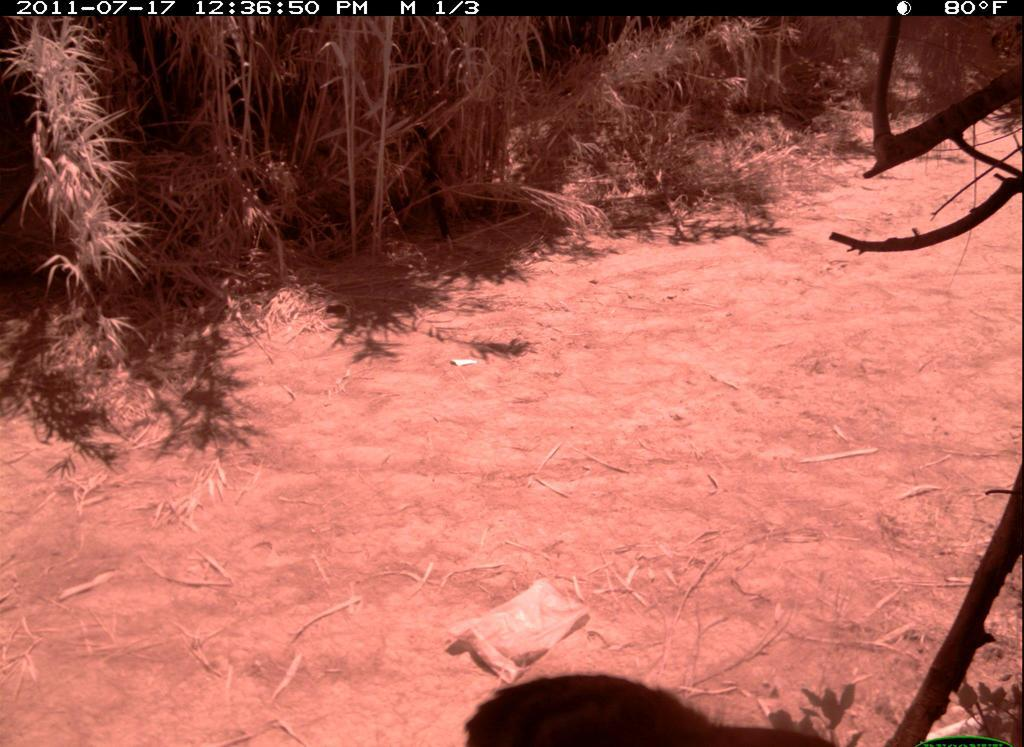bird: (438, 661, 858, 747)
